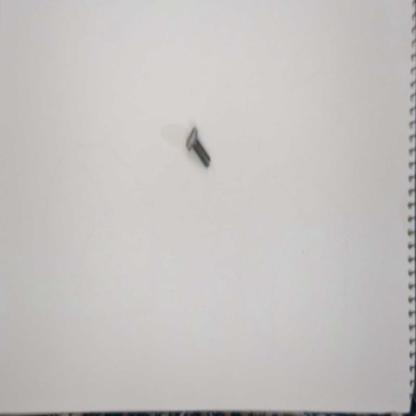Bolts: (185, 125, 214, 172)
